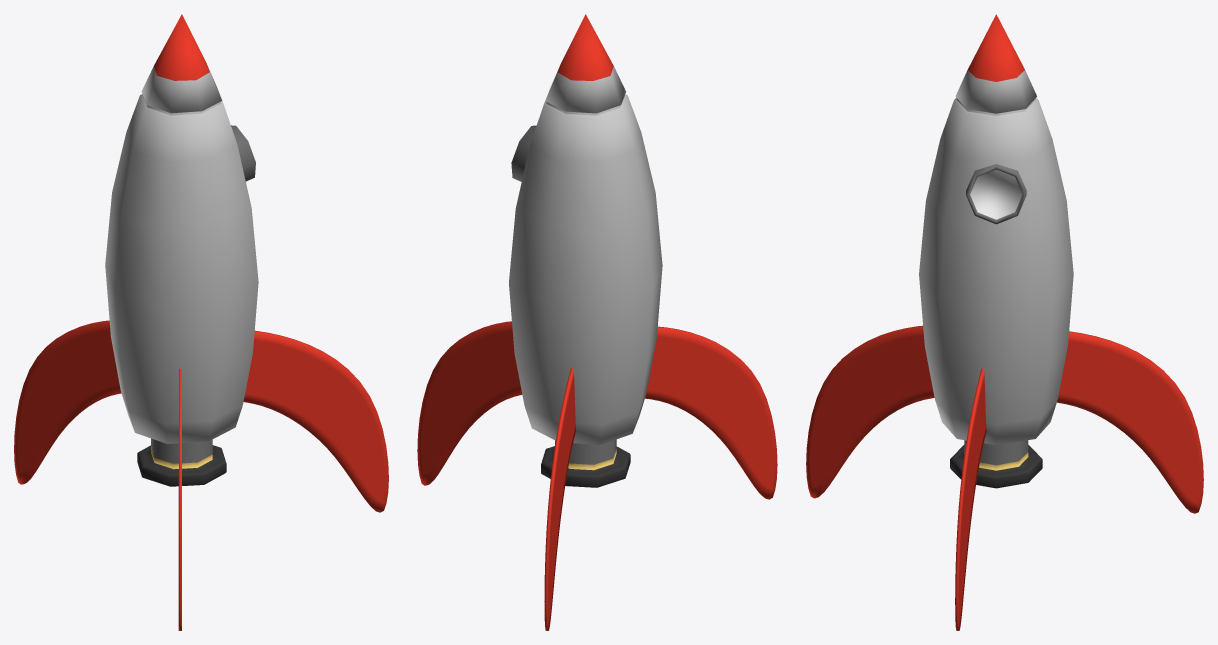
Rendered from SpaceShip.fbx.
3 views of the same model, side by side, from view 1: azimuth 30°, elevation 25°; view 2: azimuth 150°, elevation 25°; view 3: azimuth 270°, elevation 25° (orthographic).
Visible parts, largest first — view 1: Cube; view 2: Cube; view 3: Cube.
Boxes of the visible parts, <box> form: Cube: <box>14,14,388,630</box>; Cube: <box>417,14,777,630</box>; Cube: <box>806,14,1203,630</box>.
Bounding box in the file's own units: 22.29 × 39.55 × 26.95.
